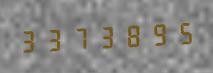eight: (117, 19, 141, 51)
five: (167, 16, 191, 48)
nine: (142, 18, 166, 49)
seven: (67, 22, 91, 53)
three: (17, 24, 41, 56), (42, 23, 66, 55), (92, 20, 116, 52)
